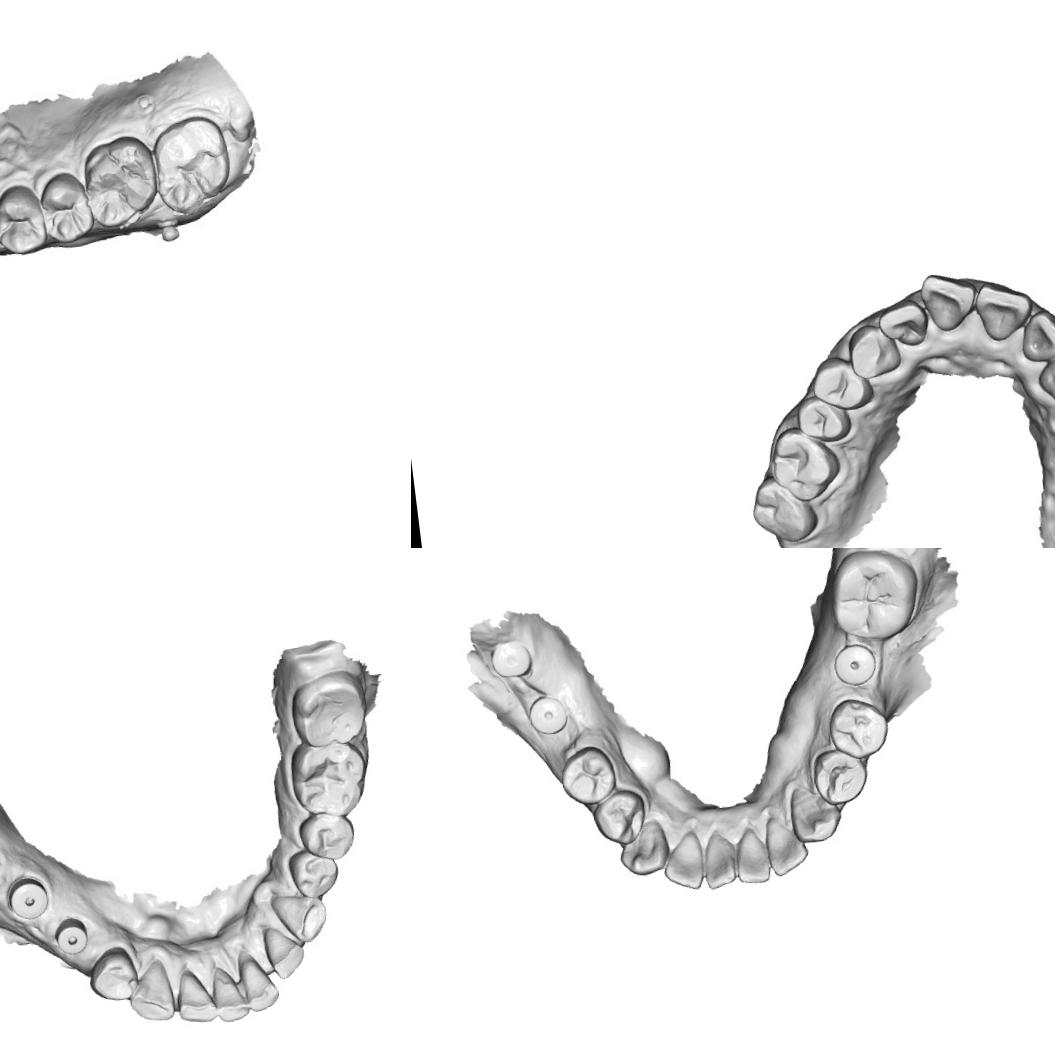canine: (785, 780, 846, 846), (122, 957, 179, 1026), (270, 888, 332, 948), (844, 320, 904, 381), (614, 816, 672, 878), (1033, 347, 1055, 411)
implant: (828, 640, 881, 690), (6, 874, 53, 922), (526, 692, 571, 738), (488, 637, 534, 681), (50, 915, 92, 958)
incisor: (972, 277, 1038, 343), (917, 268, 980, 336), (762, 810, 812, 878), (659, 828, 708, 894), (235, 948, 282, 1014), (171, 966, 221, 1026), (260, 923, 310, 982), (876, 297, 932, 349), (208, 962, 254, 1024), (699, 828, 740, 891), (732, 826, 772, 886), (1017, 306, 1055, 366)
molar: (823, 548, 925, 645), (146, 110, 236, 218), (77, 132, 163, 232), (286, 732, 372, 824), (286, 666, 372, 752), (764, 421, 845, 505), (746, 470, 822, 548)
premolar: (34, 168, 96, 246), (824, 693, 892, 762), (809, 351, 876, 414), (556, 743, 620, 808), (810, 744, 872, 808), (0, 180, 49, 258), (589, 786, 650, 848), (296, 808, 358, 866), (792, 390, 854, 446), (284, 844, 342, 903), (84, 944, 140, 1004)
